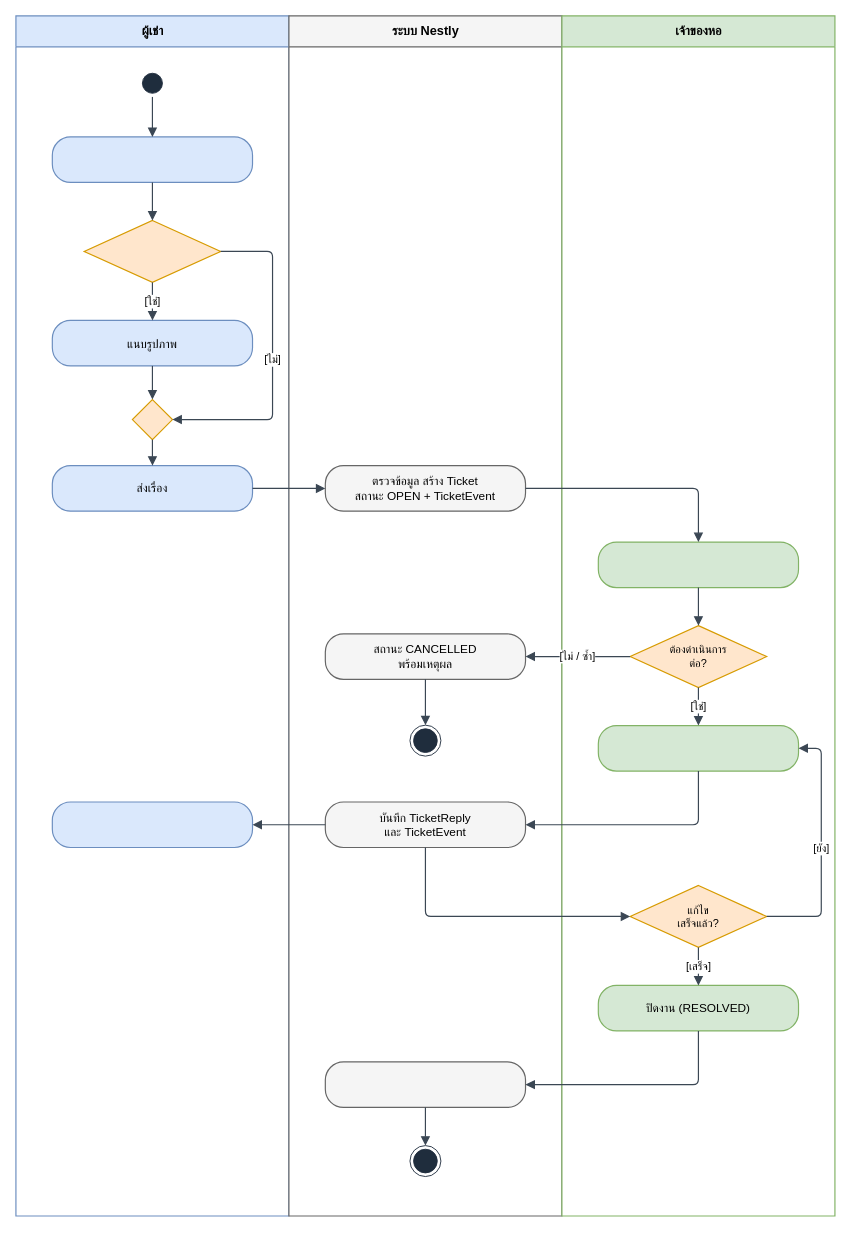
Some shapes in this 852 by 1233 pixel diagram are drawn without their labels. The shapes that lost their labels are listed below. From the top down, each one's centre as x and y in pixels, then its label:
the point at 152,159: เลือกประเภท (ซ่อม / ร้องเรียน) กรอกหัวข้อและรายละเอียด
the point at 152,251: แนบรูป ประกอบ?
the point at 698,564: รับเรื่อง (ACKNOWLEDGED)
the point at 698,748: ดำเนินการซ่อม / แก้ไข (IN_PROGRESS) และตอบกลับ
the point at 152,824: ติดตามสถานะ และตอบกลับเพิ่มเติม
the point at 425,1084: บันทึก resolvedAt ผู้เช่าเห็นผลการดำเนินการ
